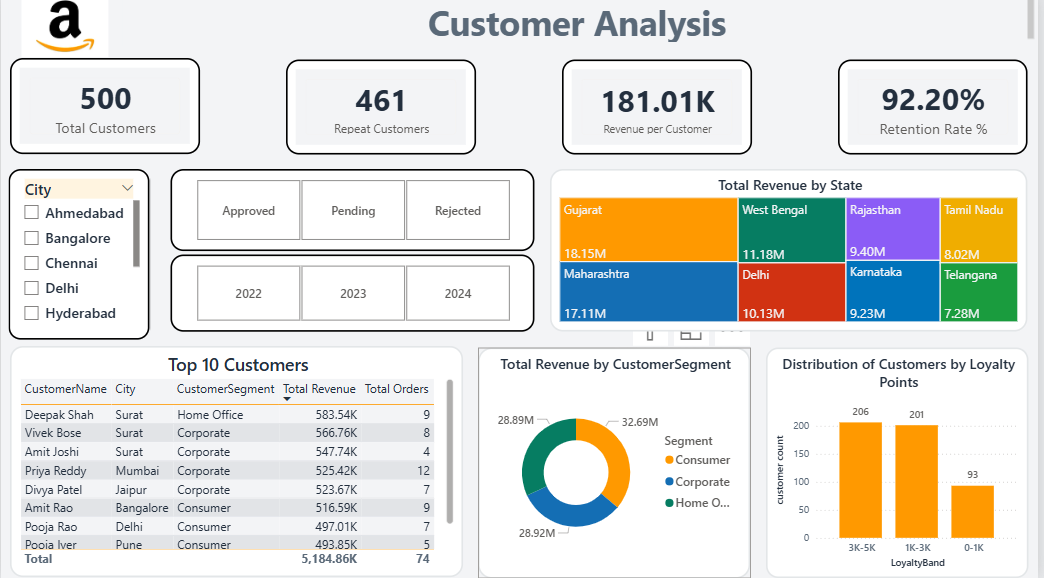

The page's visual inventory and layout, read from the dashboard file:
{"tool":"powerbi","page":{"name":"Customer Dashboard","canvas":[1280,720],"ordinal":2},"visuals":[{"type":"image","box":[10.1,0,139.7,77],"z":0},{"type":"textbox","box":[149.9,0,1130.1,62.8],"z":1000},{"type":"cardVisual","fields":{"Data":["measure table.Total Customers"]},"box":[11,77.8,234.5,118.6],"z":2000},{"type":"cardVisual","fields":{"Data":["measure table.Repeat Customers"]},"box":[351.4,75.4,234.9,117.5],"z":3000},{"type":"cardVisual","fields":{"Data":["measure table.Revenue per Customer"]},"box":[692.2,75.6,234.9,119.5],"z":4000},{"type":"cardVisual","fields":{"Data":["measure table.Retention Rate %"]},"box":[1033.1,76.1,234.8,116.6],"z":5000},{"type":"donutChart","fields":{"Category":["Customers.CustomerSegment"],"Y":["measure table.Total Revenue"]},"box":[589.4,435.4,336.2,285.6],"z":6000},{"type":"treemap","fields":{"Group":["Customers.State"],"Values":["measure table.Total Revenue"]},"box":[678.5,215.4,589.4,200.8],"z":7000},{"type":"tableEx","title":"Top 10 Customers","fields":{"Values":["Customers.CustomerName","Customers.City","measure table.Total Revenue","measure table.Total Orders","Sum(Customers.LoyaltyPoints)"]},"box":[10.1,435.4,563,285.6],"z":8000},{"type":"clusteredColumnChart","title":"Distribution of Customers by Loyalty Points","fields":{"Category":["Customers.Loyalty Band"],"Y":["CountNonNull(Customers.CustomerID)"]},"box":[944,435.6,323.8,285],"z":9000},{"type":"slicer","fields":{"Values":["DateTable.Year"]},"box":[208.6,320,449.6,95.2],"z":10000},{"type":"slicer","fields":{"Values":["Customers.City"]},"box":[10.1,214.7,174.2,210.6],"z":11000},{"type":"slicer","fields":{"Values":["Returns.ReturnStatus"]},"box":[208.6,214.7,449.6,101.3],"z":12000}]}

Visuals, with their boxes in screenshot pixels (x1, y1, x2, y2), scaled from the page's 1280x720 canvas onto the 1044x578 screenshot:
image: x1=8 y1=0 x2=122 y2=62
textbox: x1=122 y1=0 x2=1043 y2=50
cardVisual - measure table.Total Customers: x1=9 y1=62 x2=200 y2=158
cardVisual - measure table.Repeat Customers: x1=287 y1=61 x2=478 y2=155
cardVisual - measure table.Revenue per Customer: x1=565 y1=61 x2=756 y2=157
cardVisual - measure table.Retention Rate %: x1=843 y1=61 x2=1034 y2=155
donutChart - Customers.CustomerSegment x measure table.Total Revenue: x1=481 y1=350 x2=755 y2=577
treemap - Customers.State x measure table.Total Revenue: x1=553 y1=173 x2=1034 y2=334
"Top 10 Customers" tableEx: x1=8 y1=350 x2=467 y2=577
"Distribution of Customers by Loyalty Points" clusteredColumnChart: x1=770 y1=350 x2=1034 y2=577
slicer - DateTable.Year: x1=170 y1=257 x2=537 y2=333
slicer - Customers.City: x1=8 y1=172 x2=150 y2=341
slicer - Returns.ReturnStatus: x1=170 y1=172 x2=537 y2=254
